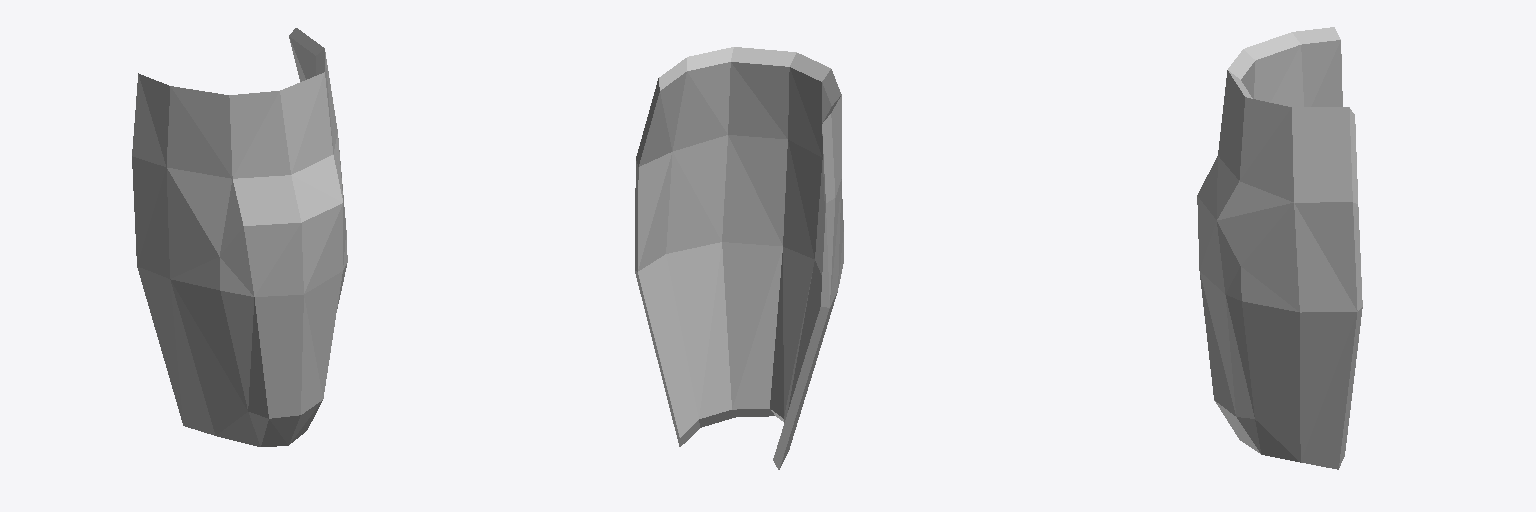
File: Armor_Leg_Left.obj
The picture shows the model from 3 angles: view 1: azimuth 30°, elevation 25°; view 2: azimuth 150°, elevation 25°; view 3: azimuth 270°, elevation 25°; orthographic projection.
Parts seen in each view (by area): view 1: Armor_Leg_Cube.008; view 2: Armor_Leg_Cube.008; view 3: Armor_Leg_Cube.008.
Part boxes in pixels (x1,y1,x2,y2): Armor_Leg_Cube.008: (132, 28, 347, 446); Armor_Leg_Cube.008: (635, 47, 843, 469); Armor_Leg_Cube.008: (1197, 27, 1362, 469).
Bounding box in the file's own units: 3.69 × 6.81 × 2.76.